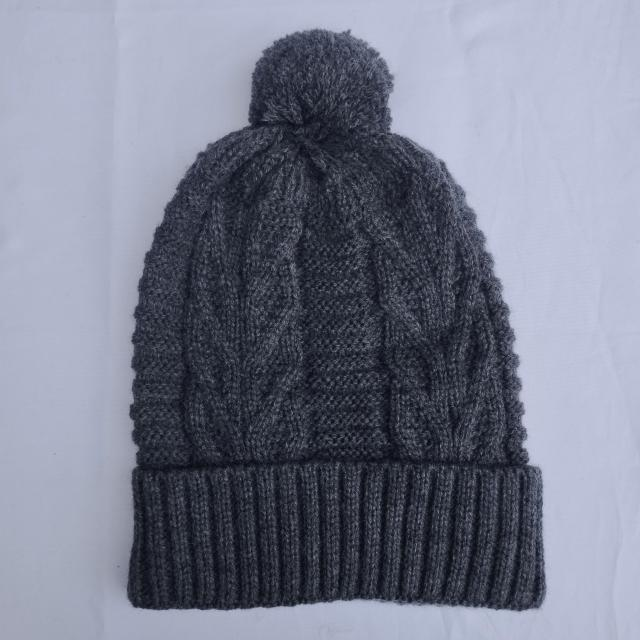Gorro: (127, 28, 546, 612)
